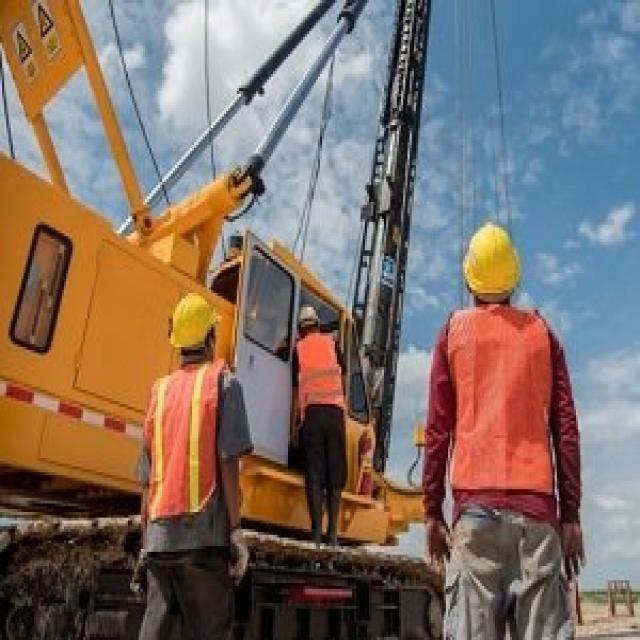helmet: (455, 209, 527, 308), (158, 282, 229, 354)
vest: (440, 288, 571, 504), (143, 352, 224, 535), (290, 328, 344, 416)
